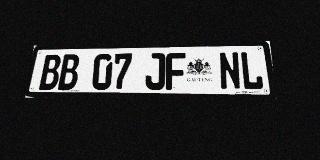0: (91, 54, 113, 90)
7: (111, 53, 132, 90)
B: (39, 54, 62, 90), (58, 54, 80, 90)
F: (166, 52, 186, 90)
J: (145, 53, 165, 90)
L: (239, 51, 264, 90)
N: (218, 52, 241, 90)
